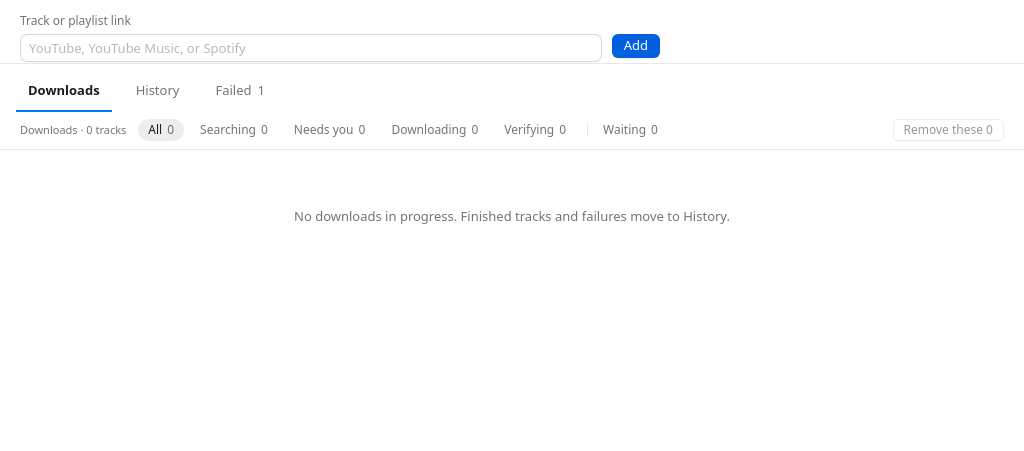
it: shows a red banner with a dismiss action when a row action fails
Click the tab "History" at (158, 92), box [124,72,191,112]
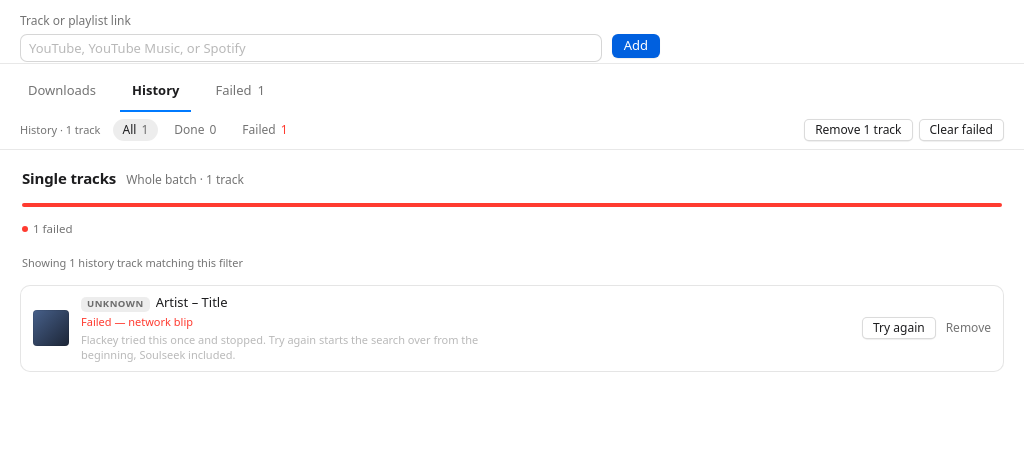
Click the button "Try again" at (899, 328), box [862,317,936,339]
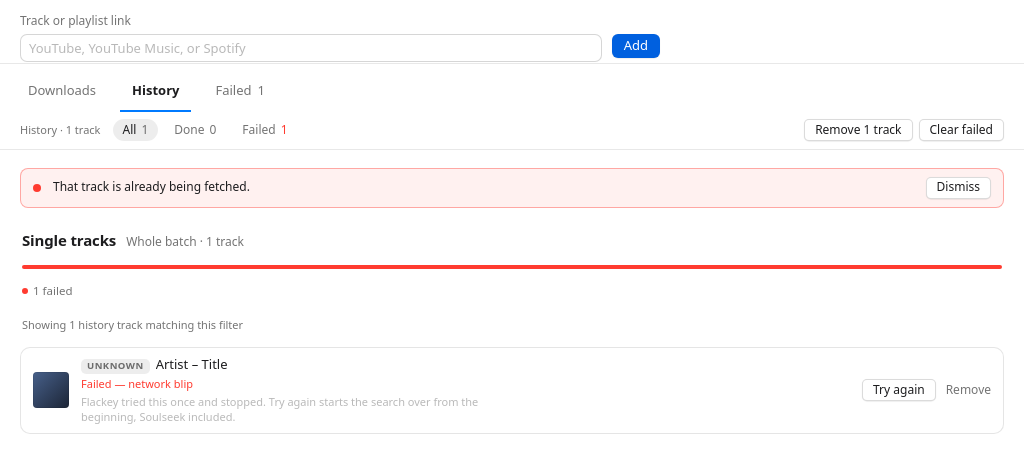
Expected: the text "That track is already being fetched." is shown, [53,178,250,196]
Click the button "Dismiss" at (958, 188), box [926,176,991,198]
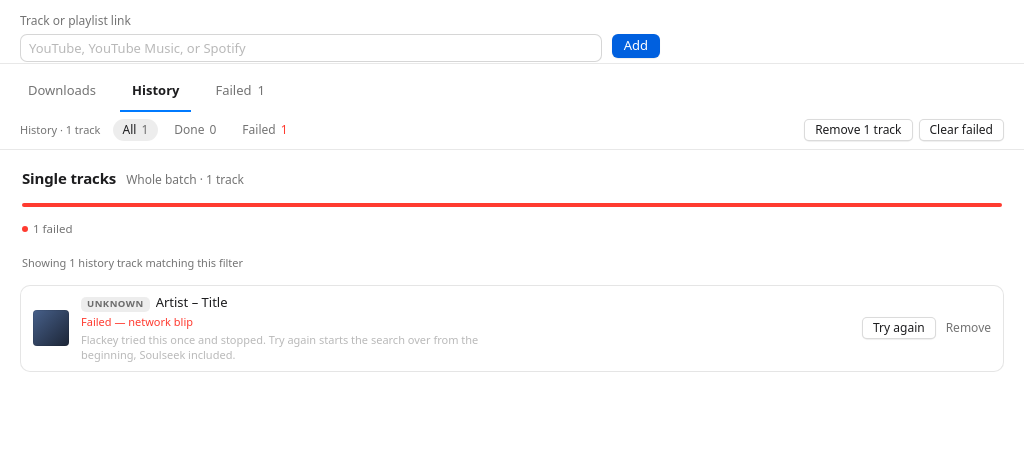
Expected: the text "That track is already being fetched." is gone
